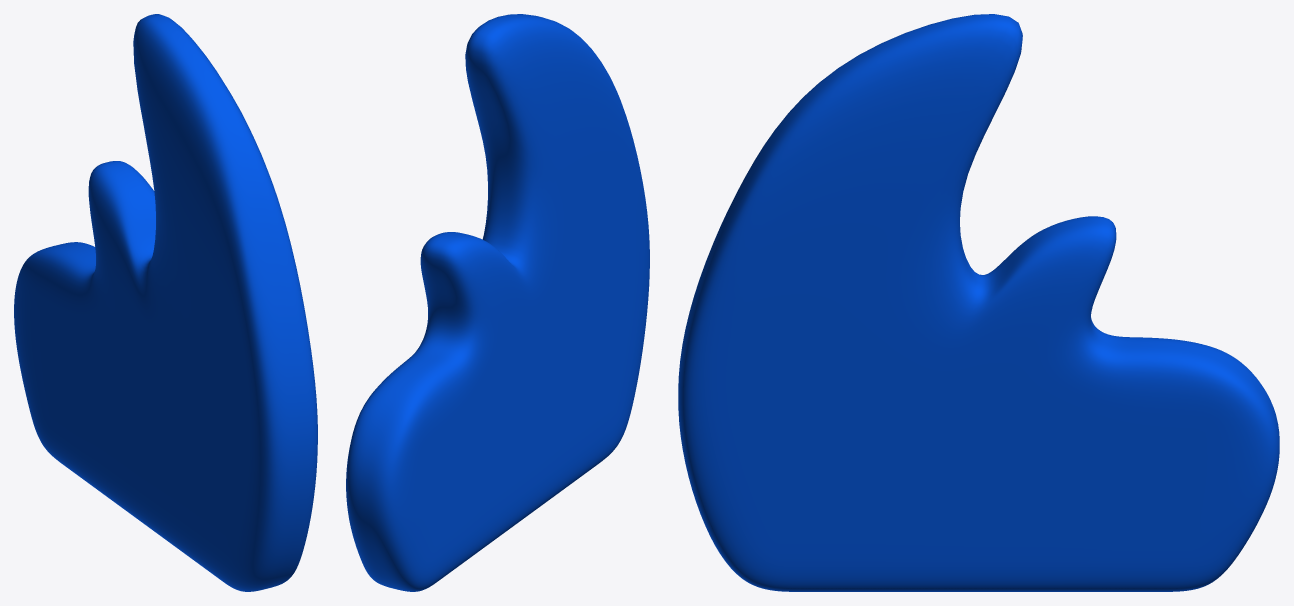
Rendered from water.fbx.
The picture shows the model from 3 angles, left to right: view 1: azimuth 30°, elevation 25°; view 2: azimuth 150°, elevation 25°; view 3: azimuth 270°, elevation 25°; orthographic projection. The views are drawn at different scales.
Visible parts, largest first — view 1: Water; view 2: Water; view 3: Water.
Boxes of the visible parts, box(x1,y1,x2,y2) form: Water: box(14, 14, 317, 591); Water: box(346, 14, 649, 591); Water: box(678, 14, 1279, 591).
Size of the model in its own units: 13.95 by 117 by 113.
